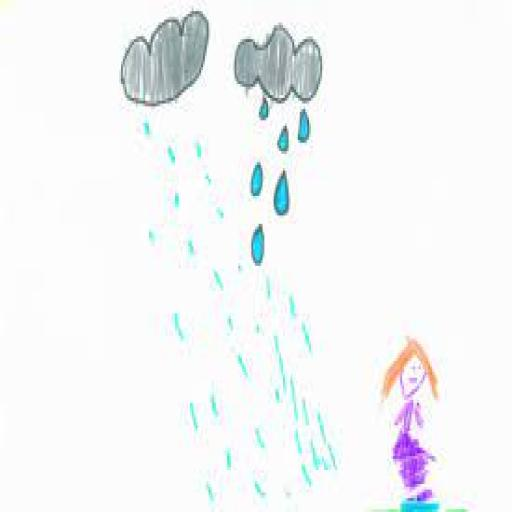person: (379, 336, 444, 509)
